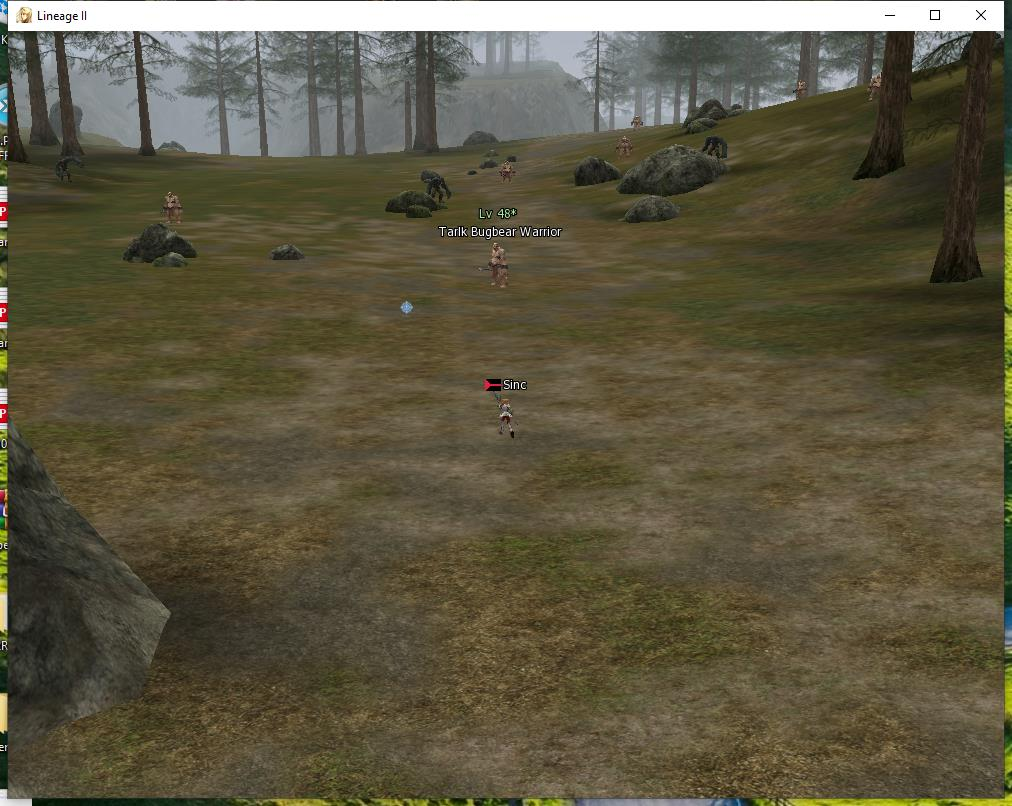monster: (440, 202, 566, 295), (149, 184, 188, 228), (46, 151, 85, 186), (703, 131, 732, 164), (497, 161, 521, 186), (615, 134, 632, 154), (635, 114, 656, 129)
